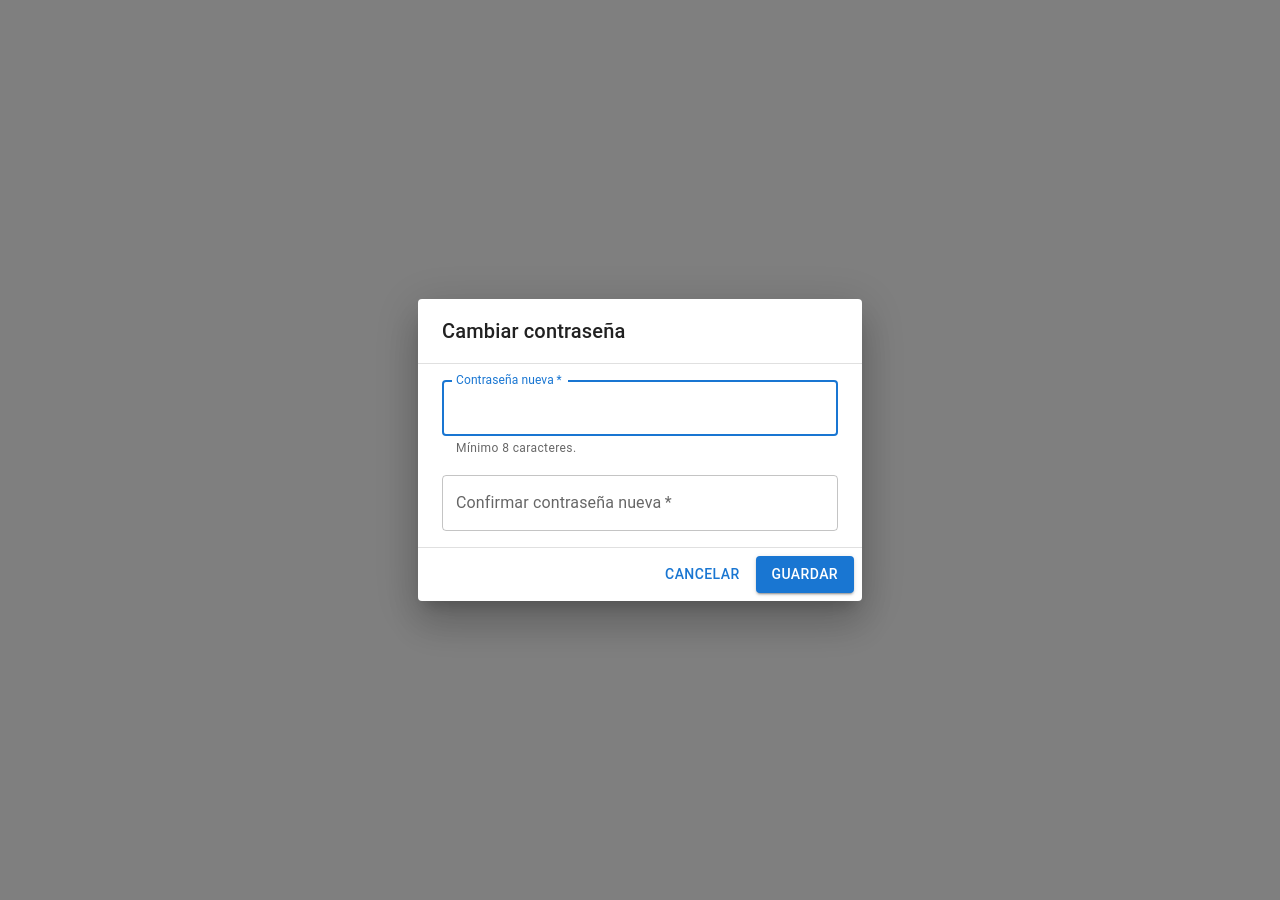
CambiarPasswordDialog › un error de Supabase Auth se muestra tal cual, sin cerrar el diálogo
Type "ContraseñaLarga123" into the password field labelled "Contraseña nueva *". click: point(640, 408)
box: [442, 380, 838, 436]
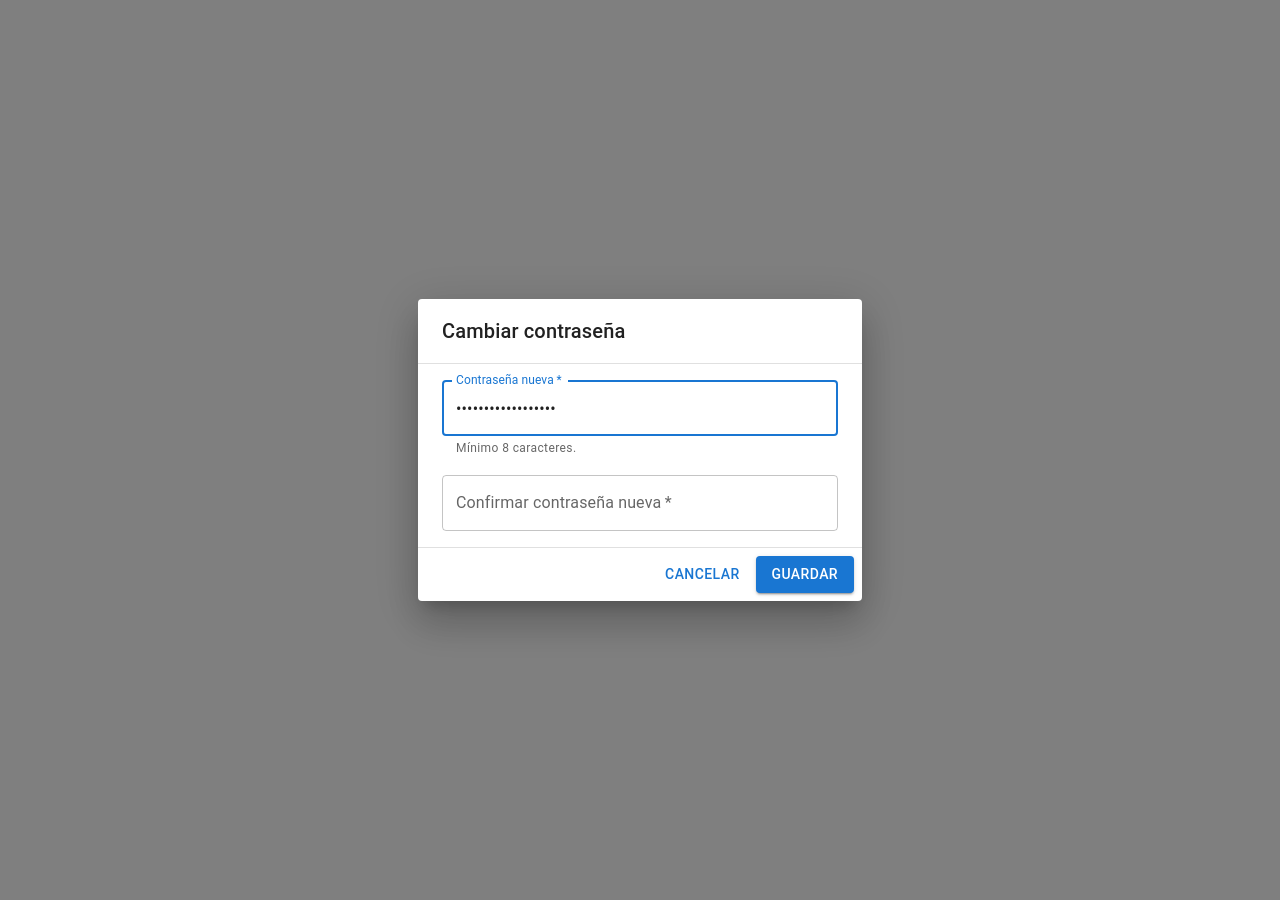
Type "ContraseñaLarga123" into the password field labelled "Confirmar contraseña nueva *". click: point(640, 503)
box: [442, 475, 838, 531]
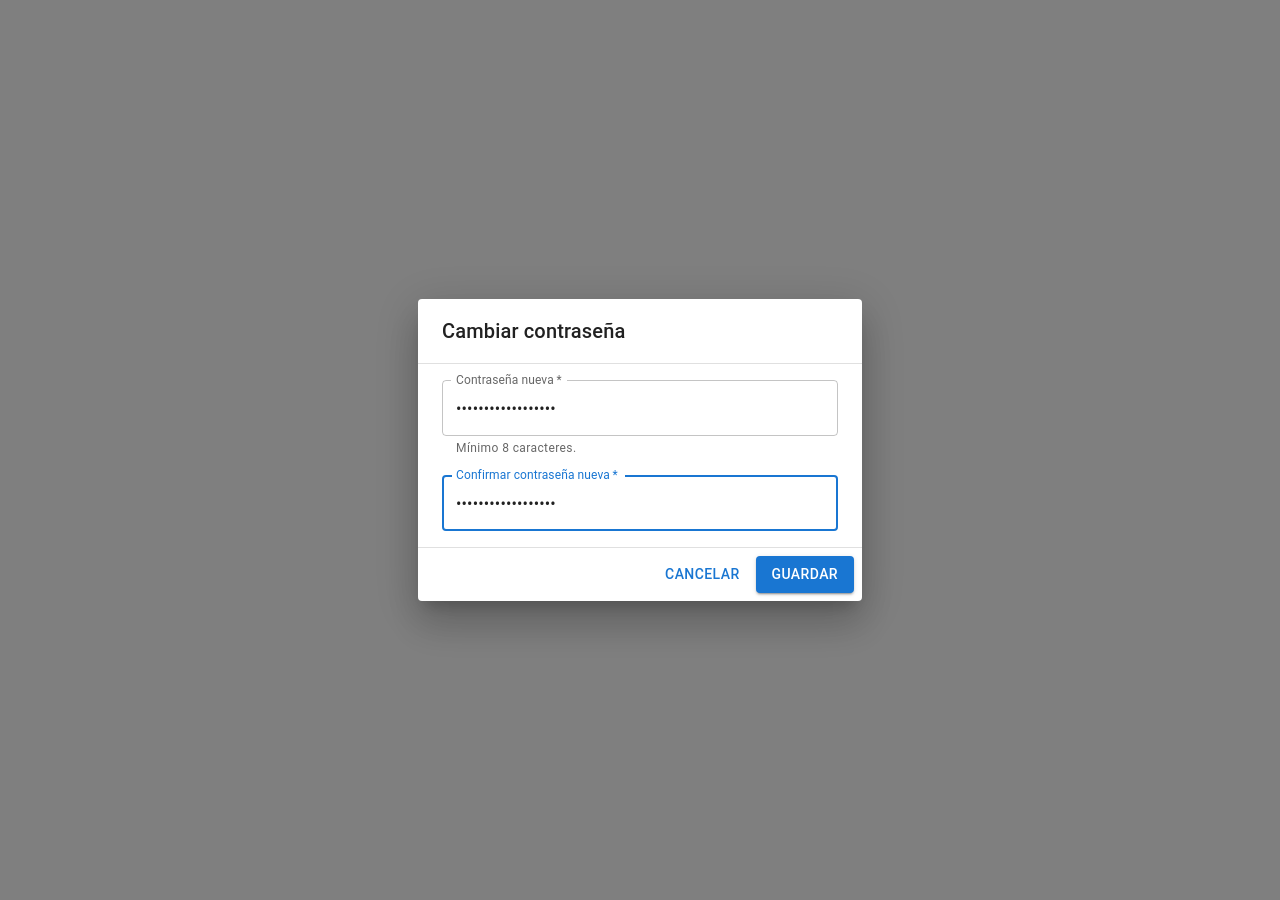
Click the button "Guardar". click: point(805, 574)
box: [756, 556, 854, 593]
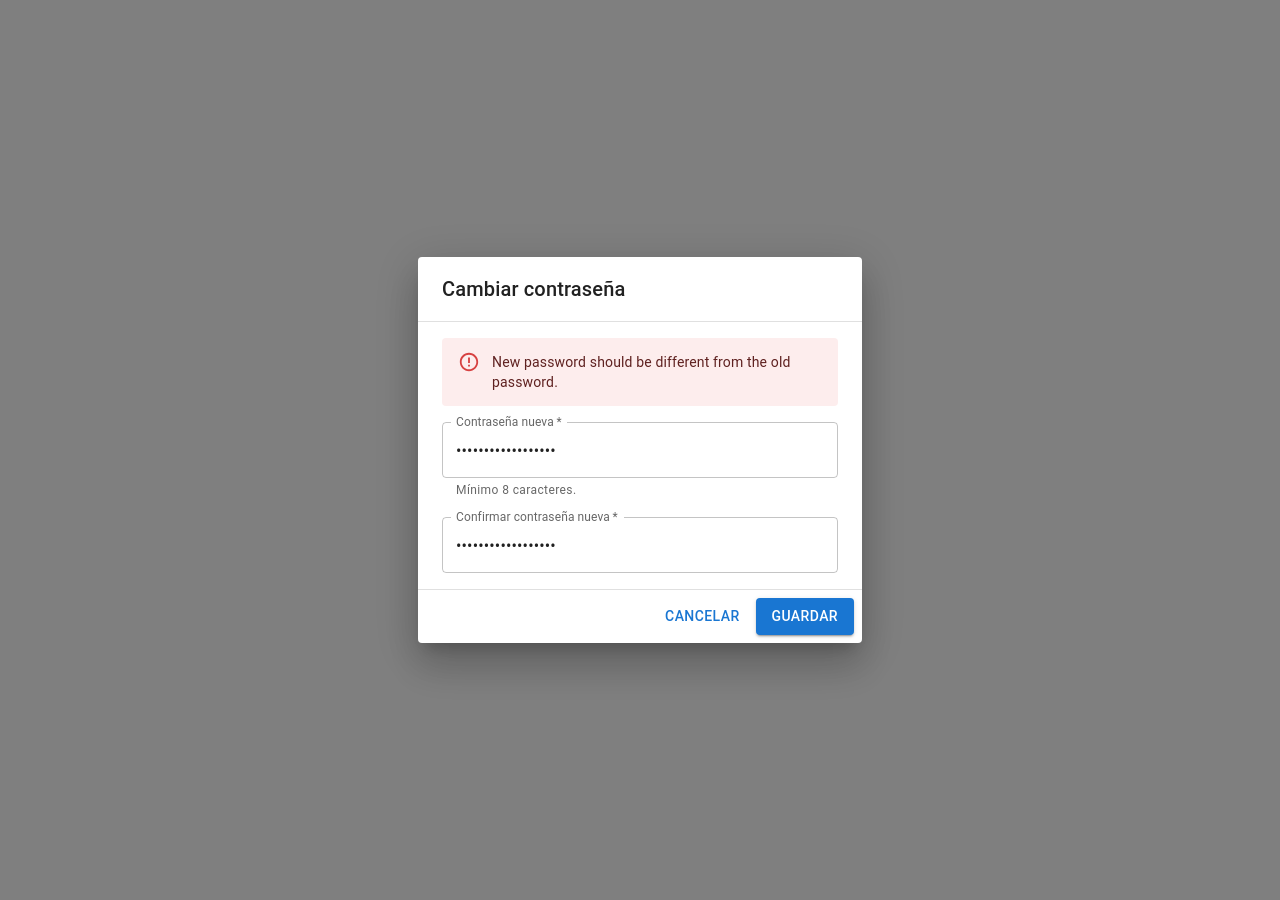
Check: the text "New password should be different from the old password." is shown, box [492, 344, 822, 400]
